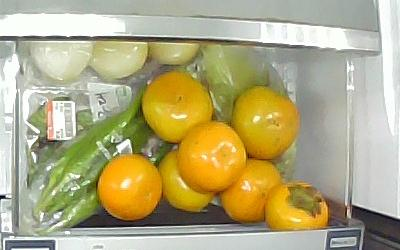persimmon: (140, 72, 213, 143), (176, 121, 247, 193), (234, 86, 299, 162), (221, 158, 283, 226), (98, 155, 162, 220), (159, 150, 216, 211), (265, 181, 329, 230)
